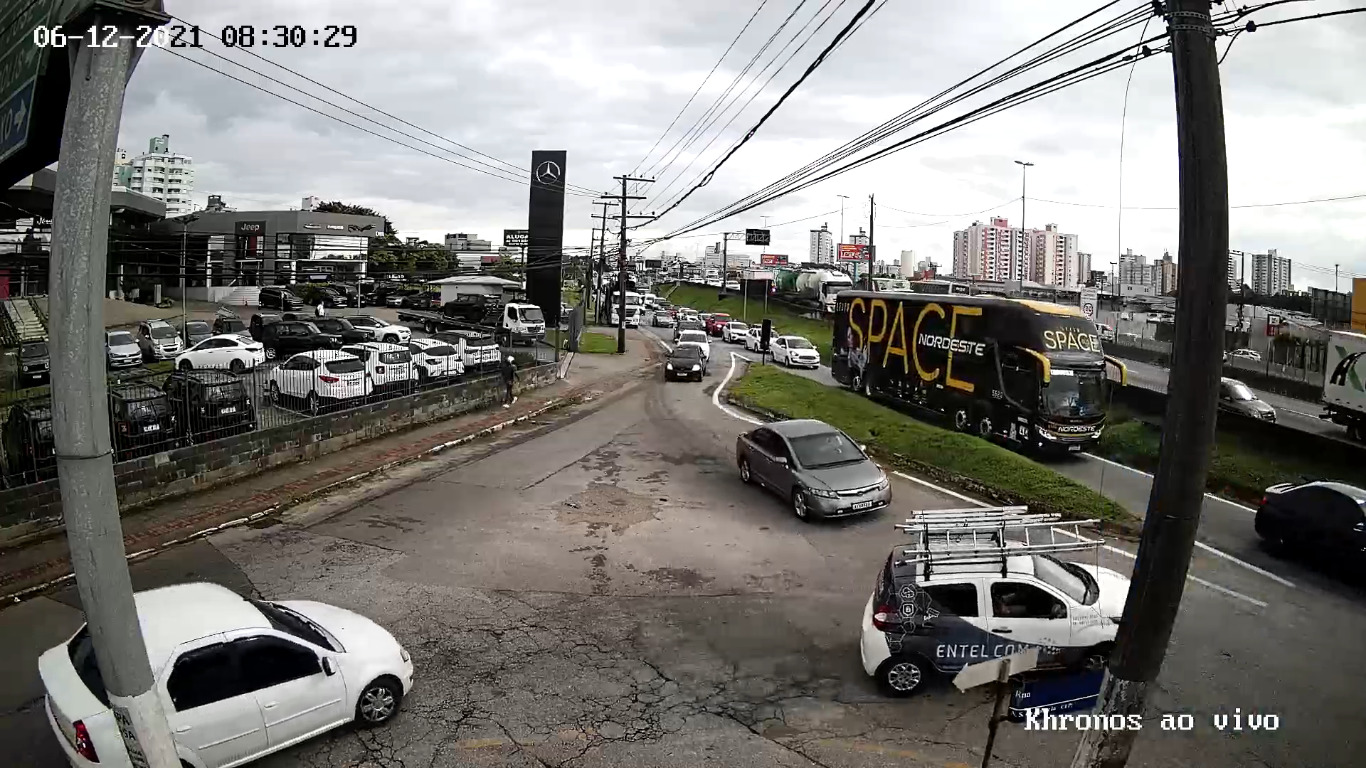car: (40, 583, 415, 768), (859, 543, 1133, 699), (732, 418, 892, 522)
